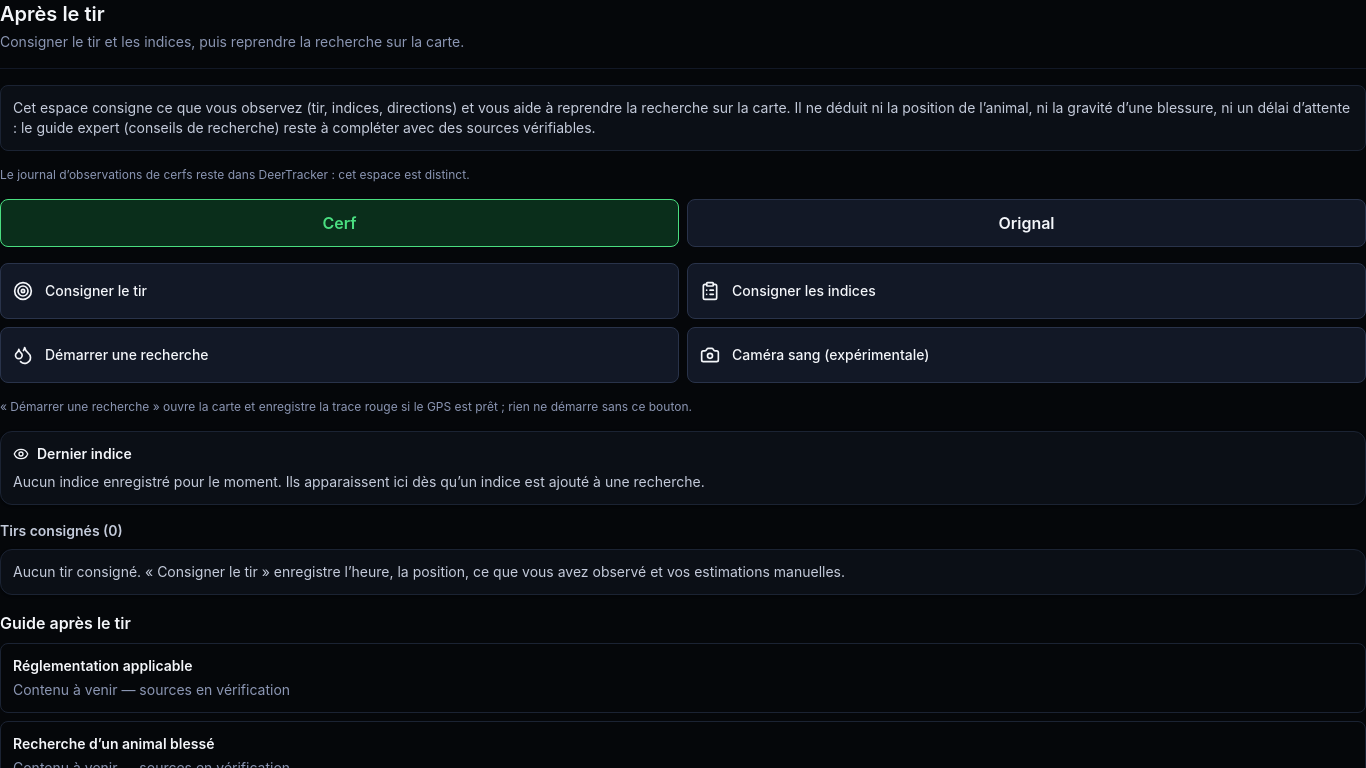
Après le tir › records a shot with only what was entered and lists it with a timeline
The image size is (1366, 768).
Step 1. Click the radio button labelled "Orignal" → click(1026, 223), box [687,199,1365,247]
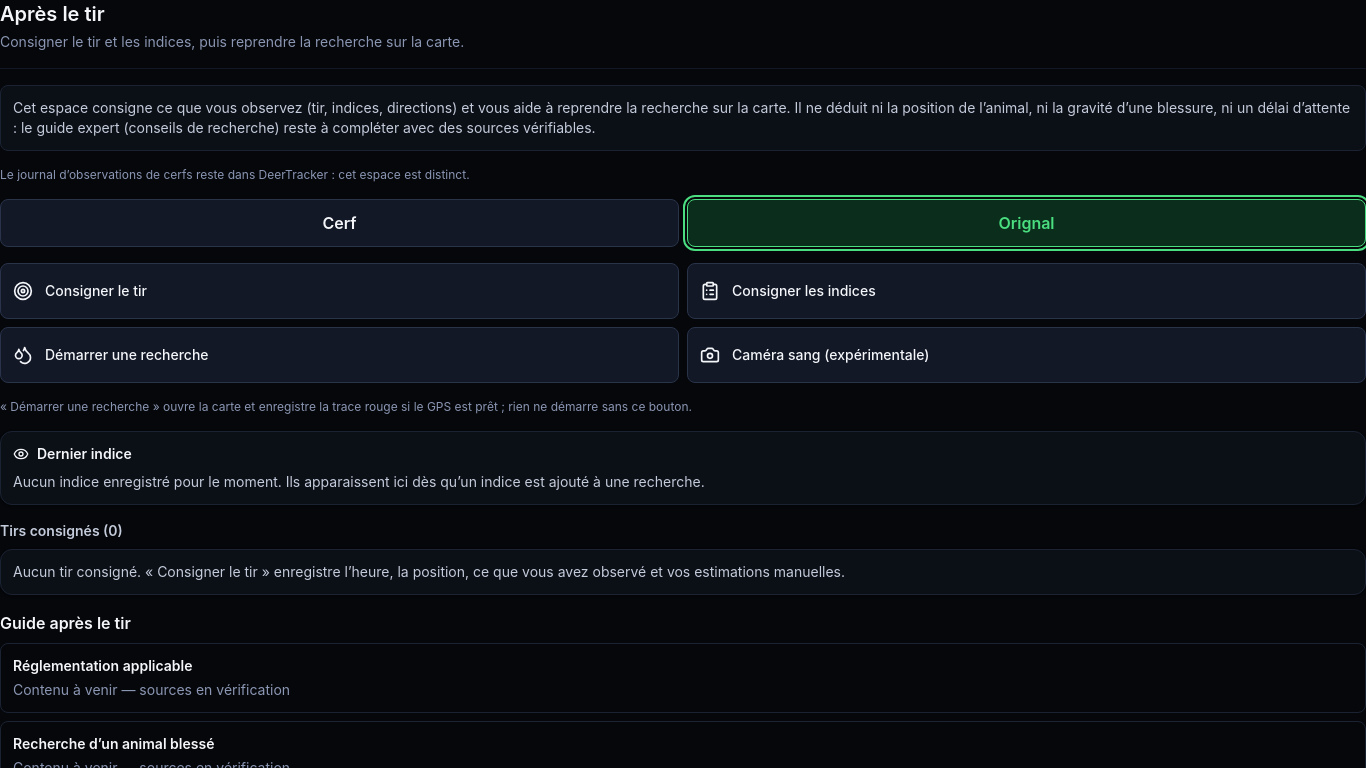
Step 2. Click the button "Consigner le tir" → click(96, 290), box [0,263,679,319]
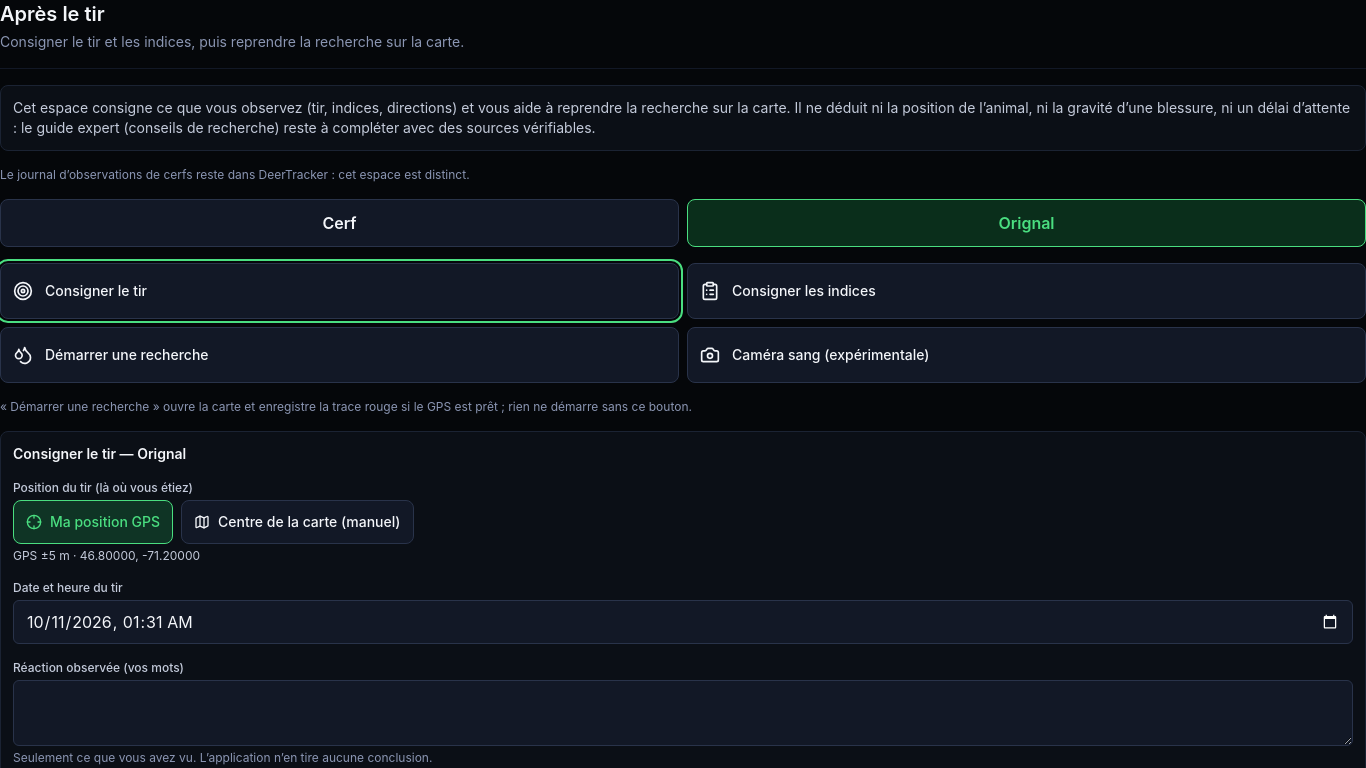
Step 3. Type "a sursauté" into the text box labelled "Réaction observée (vos mots)" → (683, 713), box [13,680,1353,746]
(page scrolled)
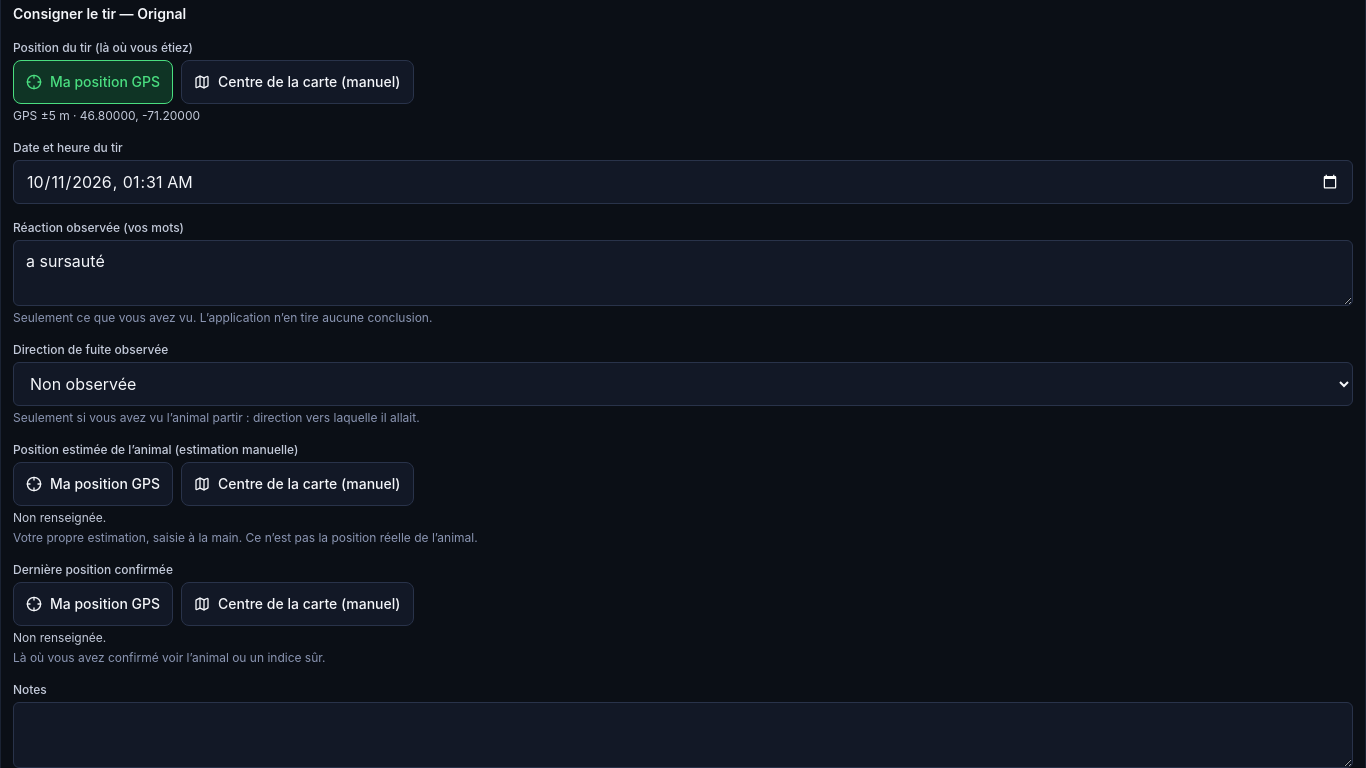
Step 4. Select "Vers le est" in the dropdown named "Direction de fuite observée" → (683, 384), box [13,362,1353,406]
(page scrolled)
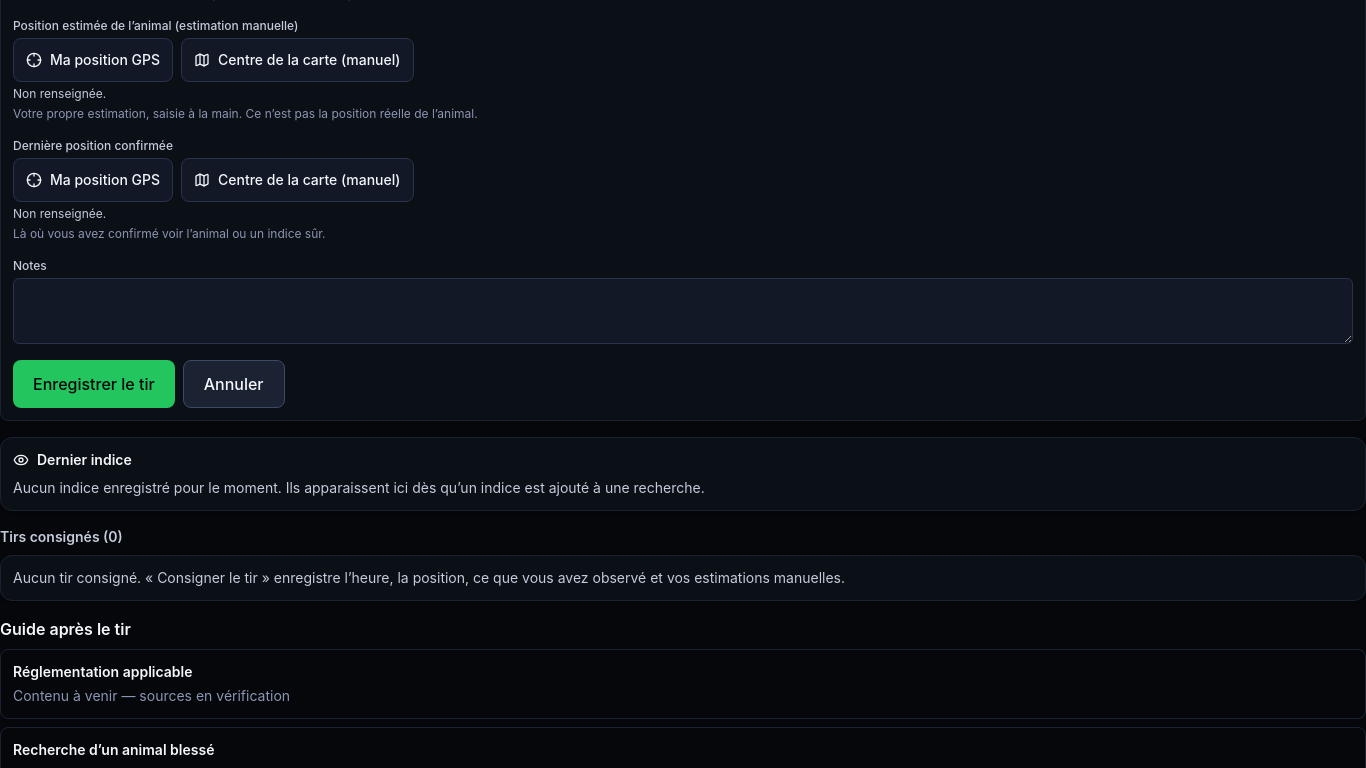
Step 5. Click the button "Enregistrer le tir" → click(94, 384), box [13,360,175,408]
(page scrolled)
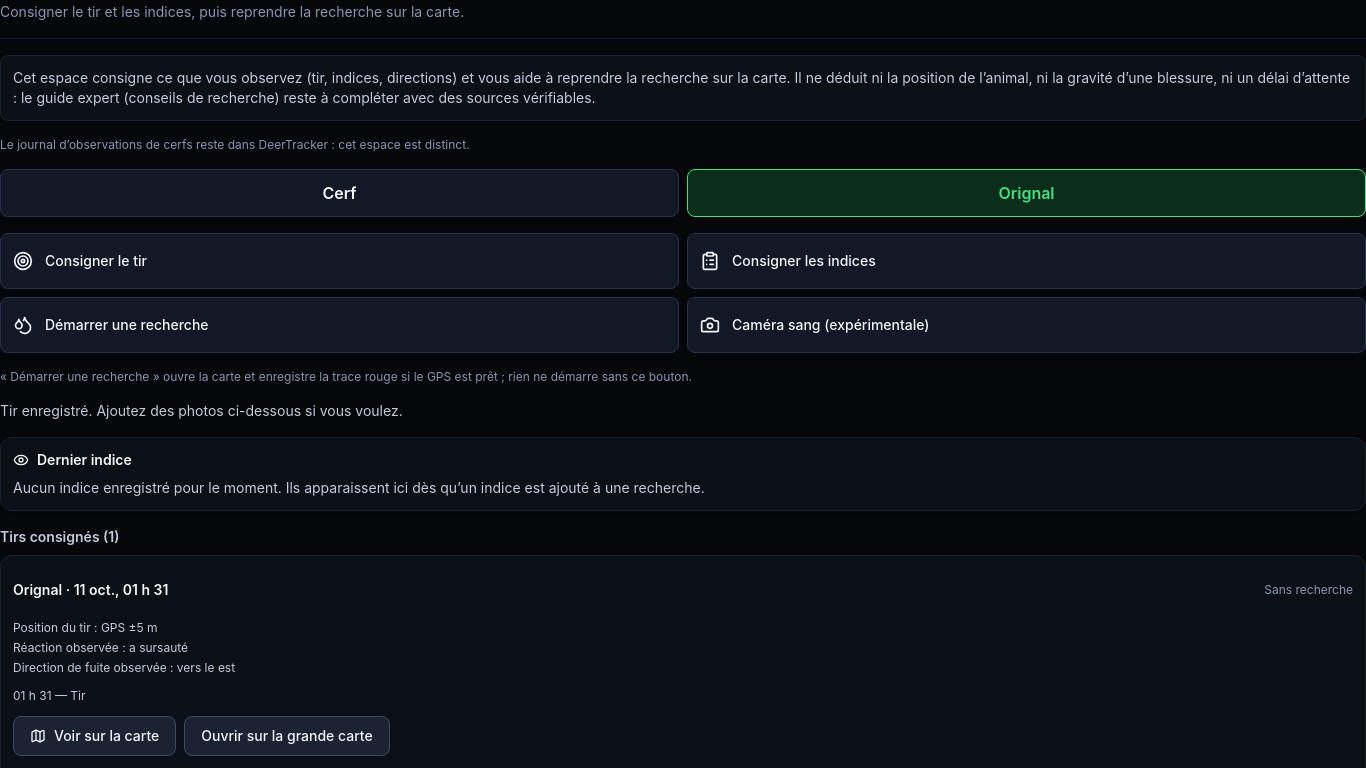
Result: the list named "Chronologie" shows "Tir" at [70,688,86,703]
Result: the text "Orignal · 11 oct., 01 h 31" is shown at [13,580,168,600]
